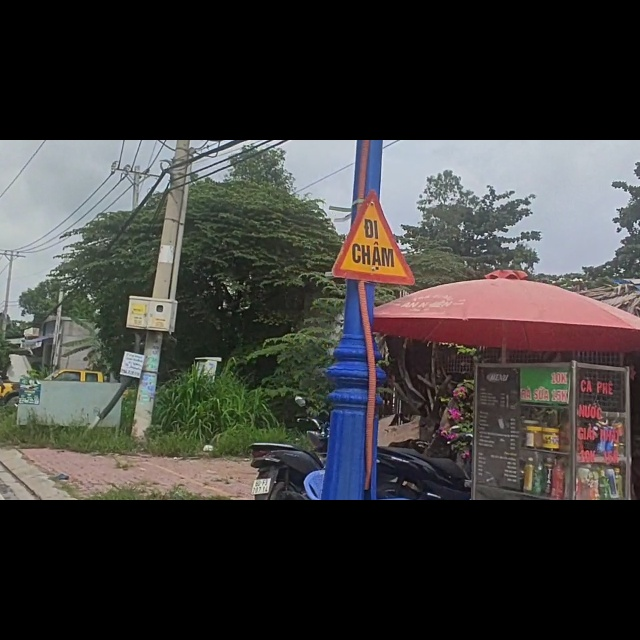bien_nguy_hiem: (330, 87, 417, 261)
